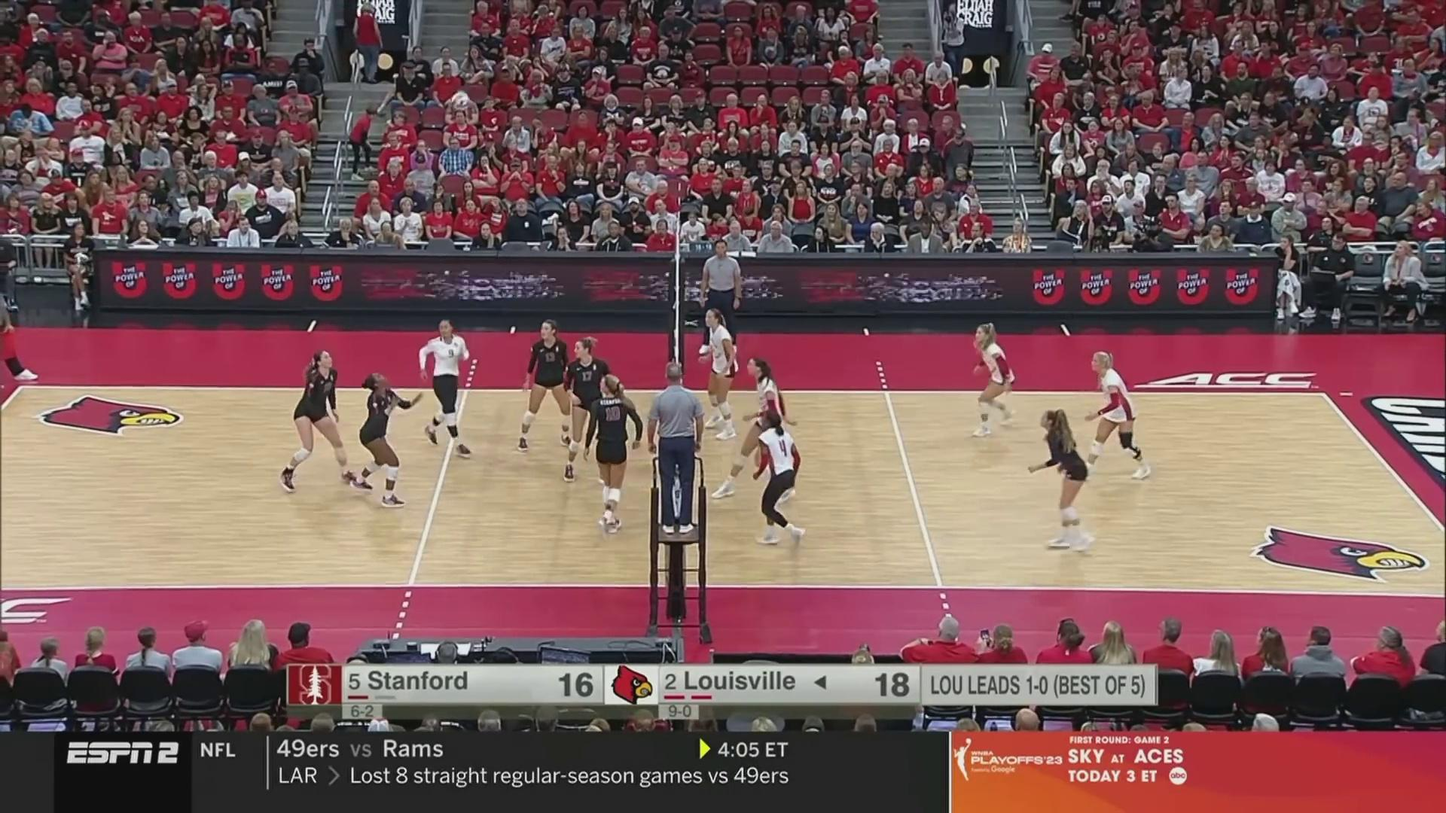player: (278, 348, 360, 492), (715, 356, 794, 502), (1025, 410, 1097, 554), (1079, 350, 1151, 482), (585, 376, 644, 532), (355, 367, 419, 507), (562, 340, 624, 481), (416, 319, 474, 453), (518, 321, 577, 452), (754, 413, 807, 547), (967, 324, 1019, 436), (701, 308, 743, 443)
refree: (648, 360, 707, 535), (701, 239, 743, 358)
